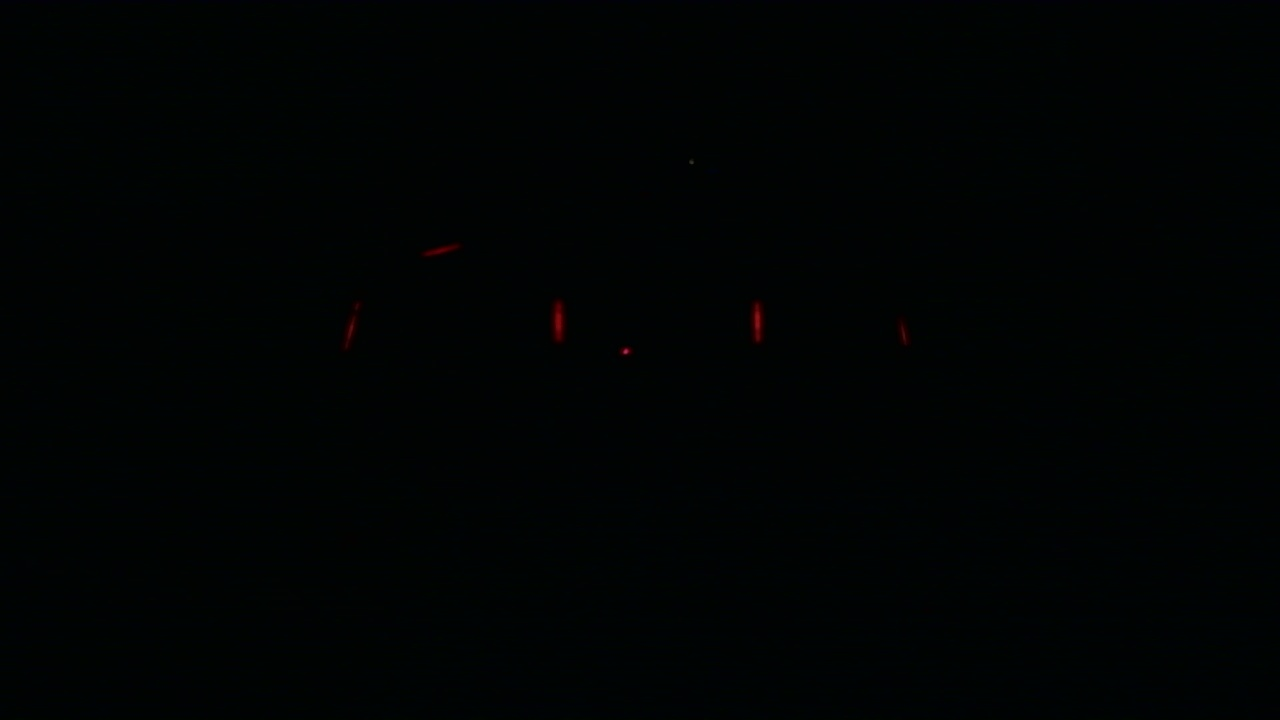lamp: (554, 302, 571, 347), (553, 301, 568, 345), (751, 299, 764, 339)
notpair2: (342, 294, 570, 348)
pair2: (554, 301, 765, 346)
